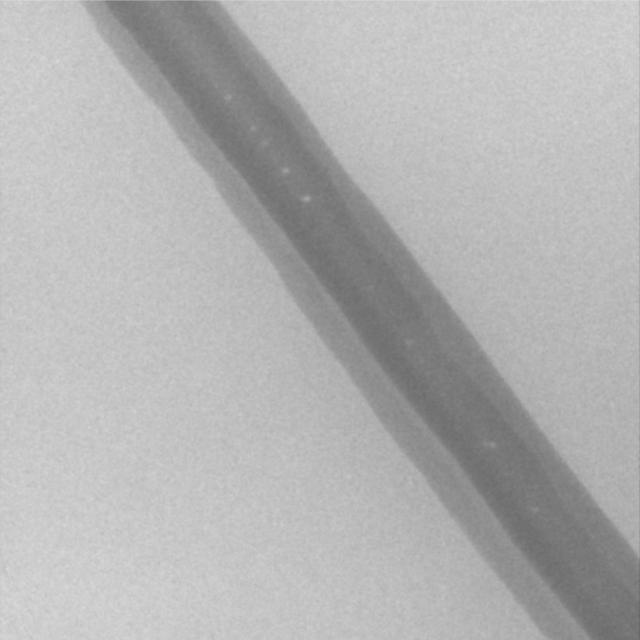air hole: (280, 165, 291, 176), (301, 194, 312, 204), (223, 93, 233, 102), (485, 440, 496, 448), (249, 123, 257, 133), (531, 506, 539, 514)
